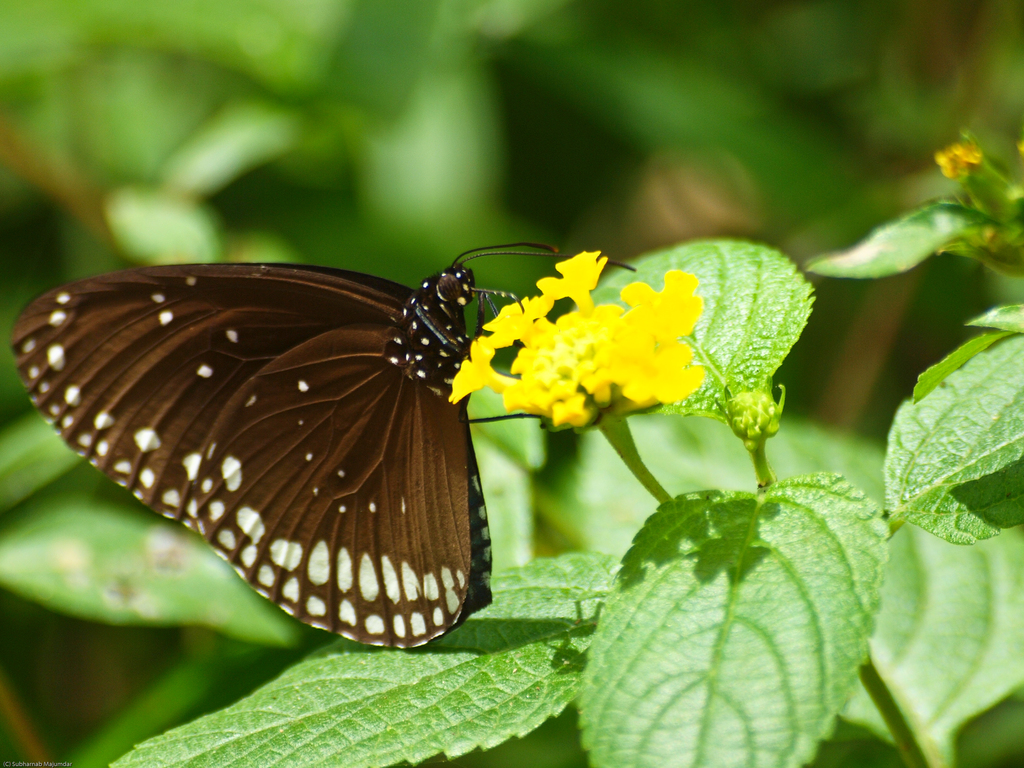Butterfly: (3, 220, 568, 656)
